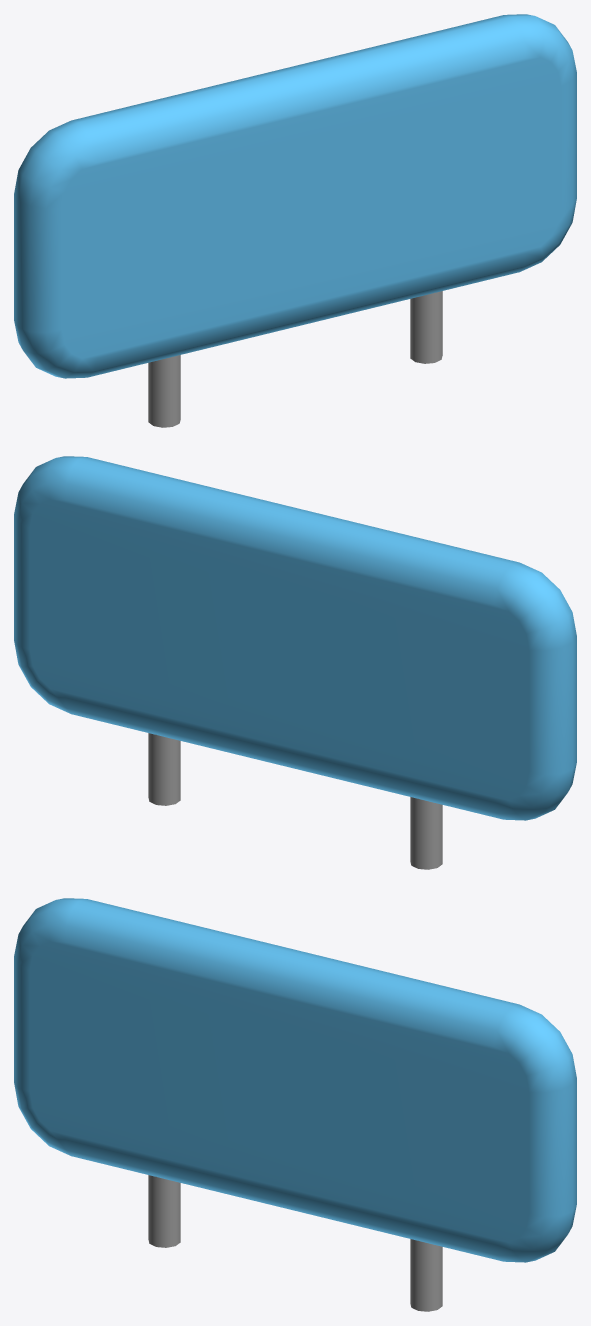
File: Poster_M_01.fbx
3 views of the same model, one above another, from view 1: azimuth 30°, elevation 25°; view 2: azimuth 150°, elevation 25°; view 3: azimuth 330°, elevation 25° (orthographic).
Visible parts, largest first — view 1: Poster, Pole_2, Pole_1; view 2: Poster, Pole_2, Pole_1; view 3: Poster, Pole_1, Pole_2.
Part boxes in pixels (x1,y1,x2,y2): Poster: [14, 14, 576, 378]; Pole_2: [410, 291, 442, 363]; Pole_1: [148, 355, 180, 427]; Poster: [14, 456, 576, 820]; Pole_2: [148, 733, 180, 805]; Pole_1: [410, 797, 442, 869]; Poster: [14, 898, 576, 1262]; Pole_1: [148, 1175, 180, 1247]; Pole_2: [410, 1239, 442, 1311].
Size of the model in its own units: 258 by 142 by 25.7.
